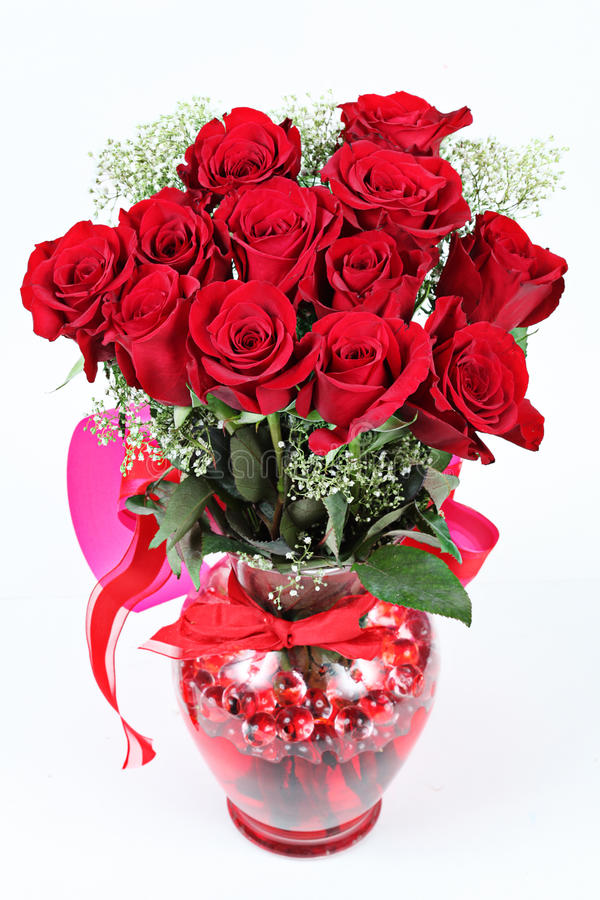RedRose: (423, 327, 557, 473), (16, 208, 145, 358), (180, 277, 312, 423), (294, 303, 432, 441), (443, 215, 584, 336), (213, 173, 330, 299), (163, 99, 302, 196), (119, 274, 211, 412), (342, 72, 479, 163), (320, 147, 469, 227), (330, 214, 438, 322), (119, 184, 204, 283)
